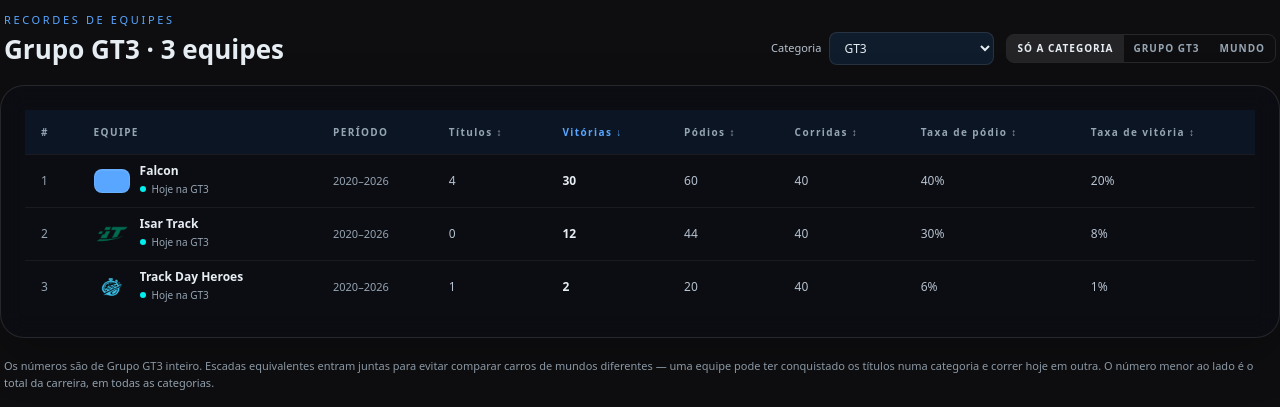
TeamRecordsTab — amplitude › consulta só a categoria, o grupo ou o mundo conforme a amplitude
Step 1. Click the button "Grupo GT3" → (1166, 48), box [1124,35,1210,62]
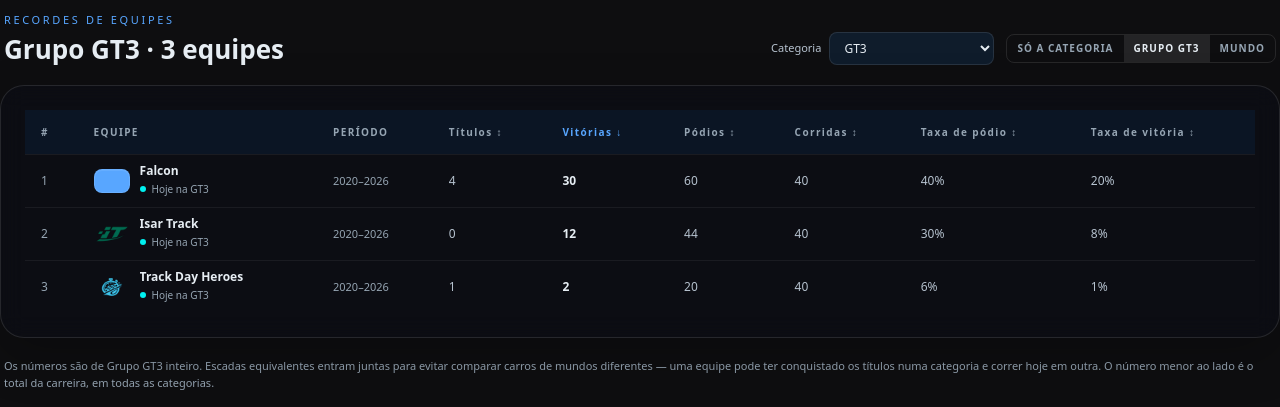
Step 2. Click the button "Mundo" → (1242, 48), box [1210,35,1275,62]
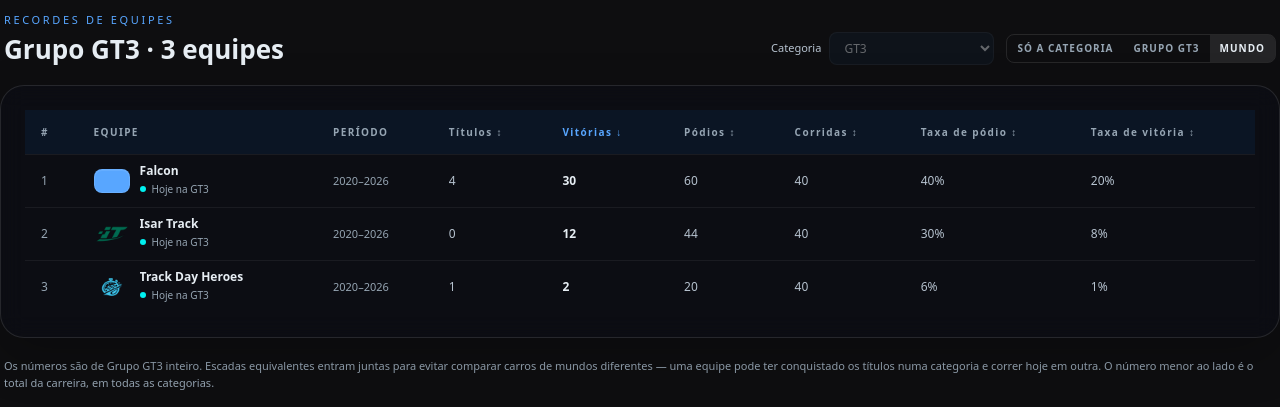
Expected: the dropdown with test id "team-records-category" is disabled, [829,32,994,65]
